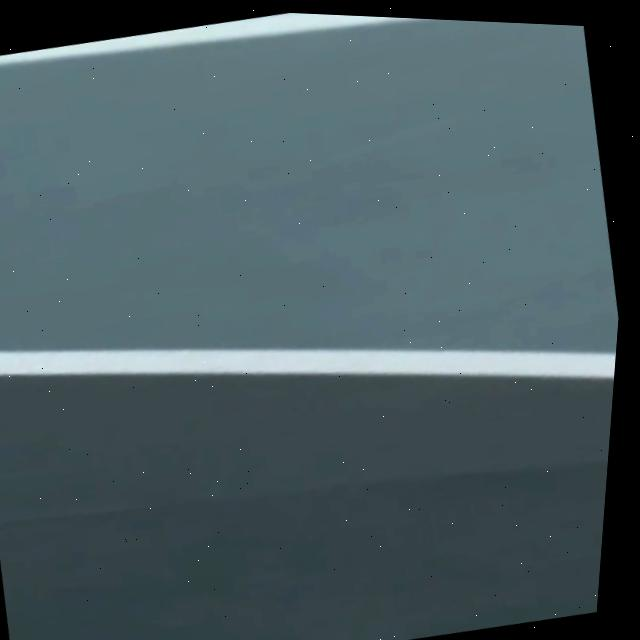left: (0, 348, 616, 378)
